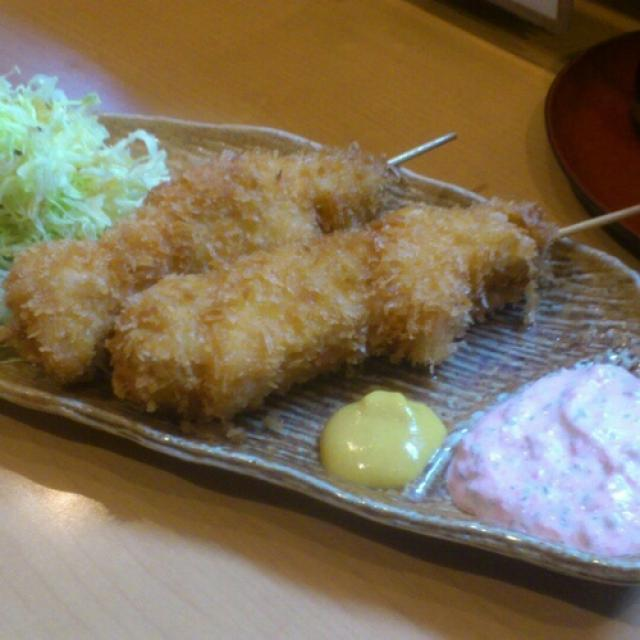米饭主食: (265, 76, 608, 418)
蔬菜料理: (41, 525, 274, 640)
